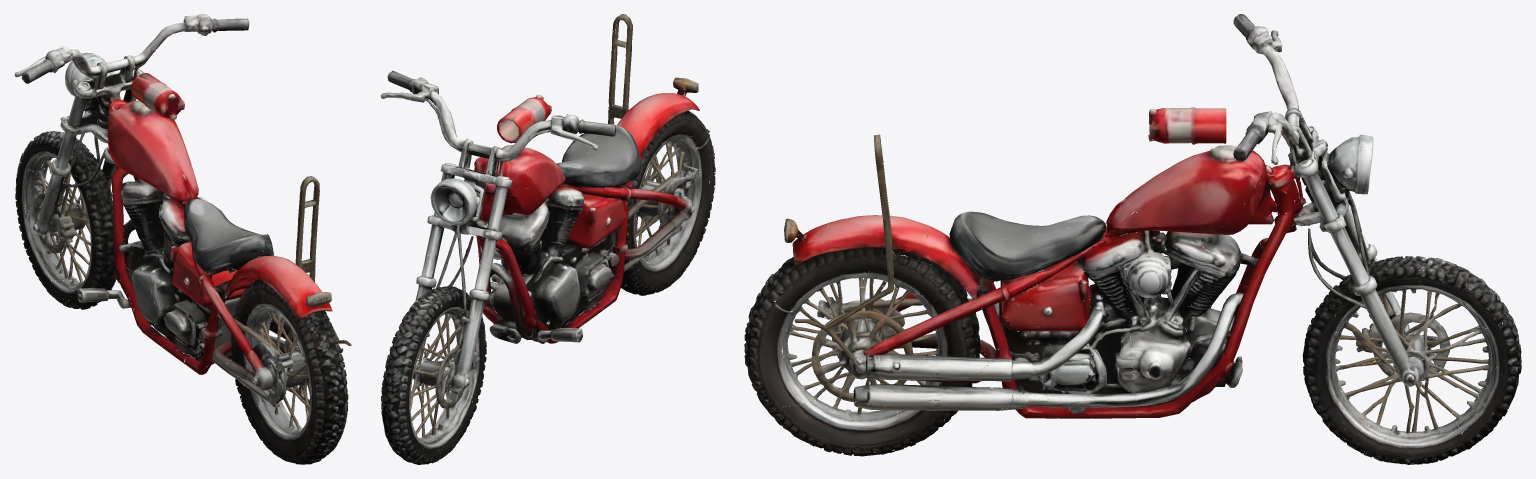
File: bike_shadow.glb
The picture shows the model from 3 angles, left to right: view 1: azimuth 30°, elevation 25°; view 2: azimuth 150°, elevation 25°; view 3: azimuth 270°, elevation 25°; orthographic projection. The views are drawn at different scales.
Visible parts, largest first — view 1: bike_body, wheel_r, wheel_f; view 2: bike_body, wheel_f, wheel_r; view 3: bike_body, wheel_r, wheel_f.
Boxes of the visible parts, x1,y1,x2,y2 form: bike_body: [14, 14, 351, 390]; wheel_r: [214, 264, 348, 464]; wheel_f: [15, 131, 116, 309]; bike_body: [380, 14, 698, 408]; wheel_f: [381, 280, 486, 464]; wheel_r: [610, 97, 715, 295]; bike_body: [784, 14, 1449, 418]; wheel_r: [744, 227, 988, 456]; wheel_f: [1302, 255, 1521, 464].
Size of the model in its own units: 0.9559 by 1.27 by 2.3.
Materials: 1 (1 with a texture image).
